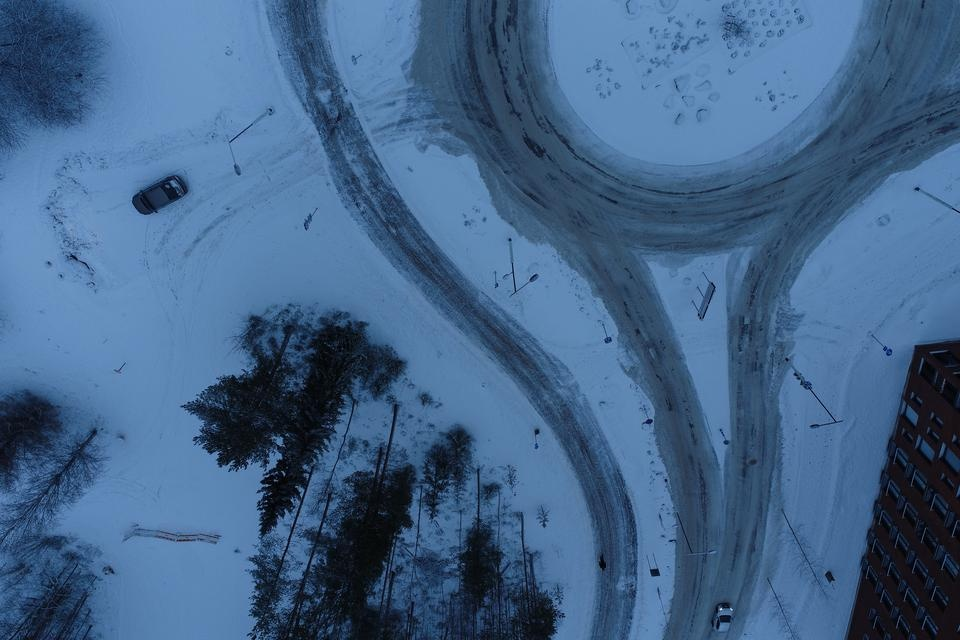roundabout: (240, 0, 960, 292)
